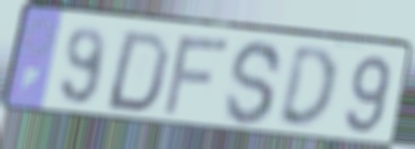9: (341, 52, 395, 137), (59, 25, 108, 109)
D: (101, 29, 173, 116), (274, 45, 338, 134)
F: (159, 35, 234, 119)
S: (222, 38, 286, 129)
